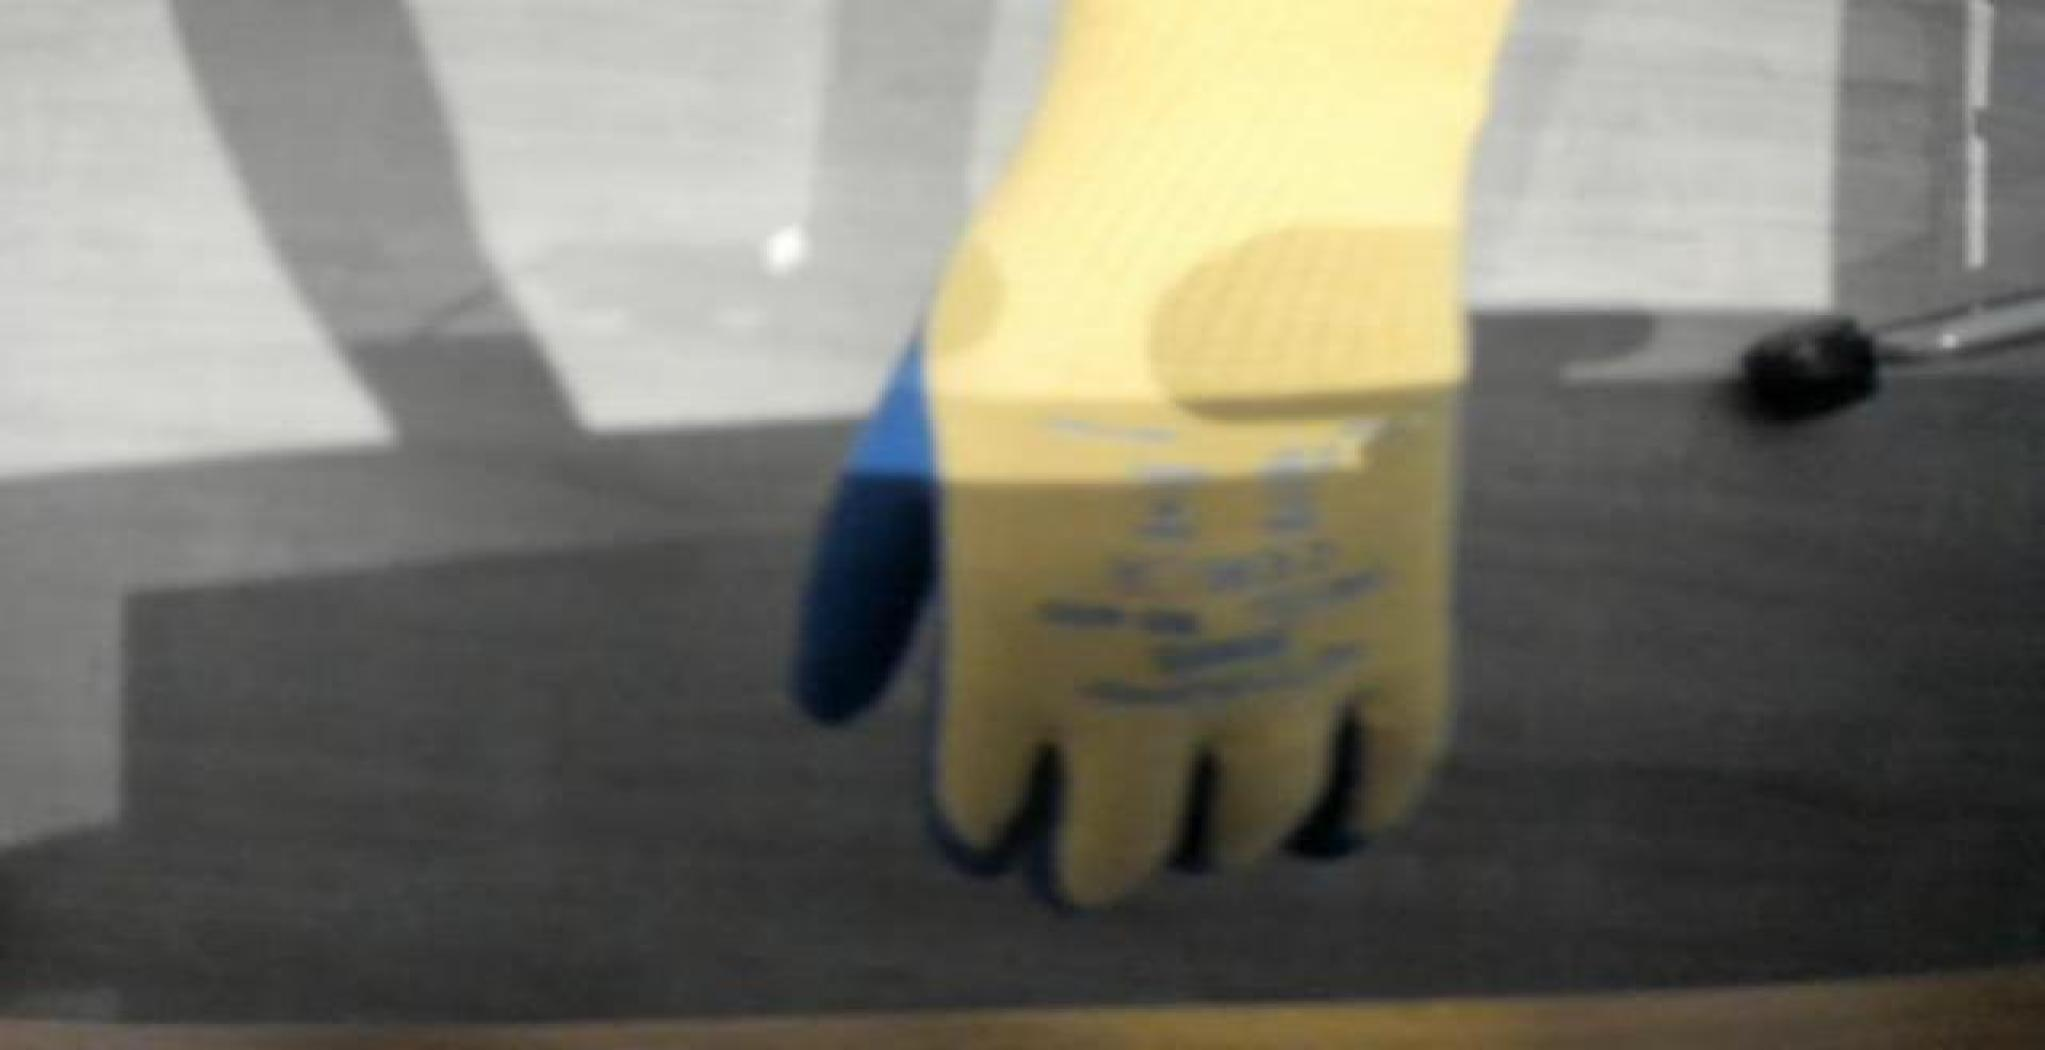gloved: (842, 54, 1598, 879)
